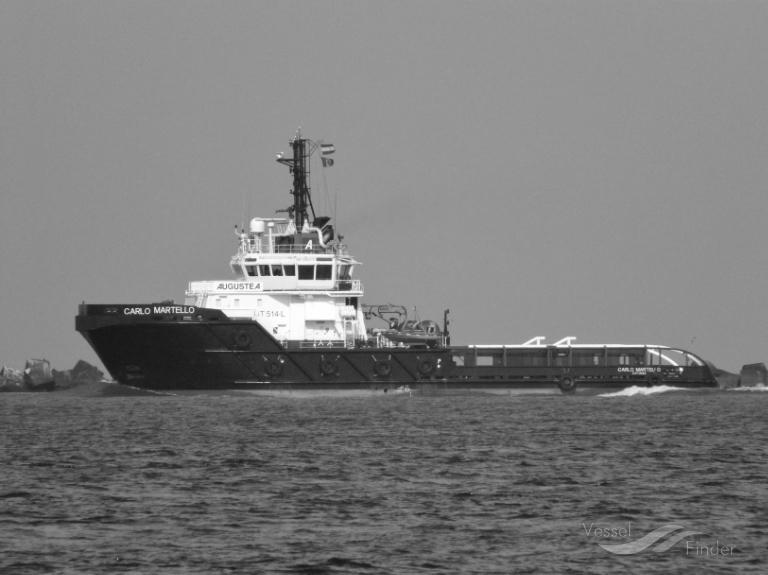OCR: (118, 298, 197, 320)
